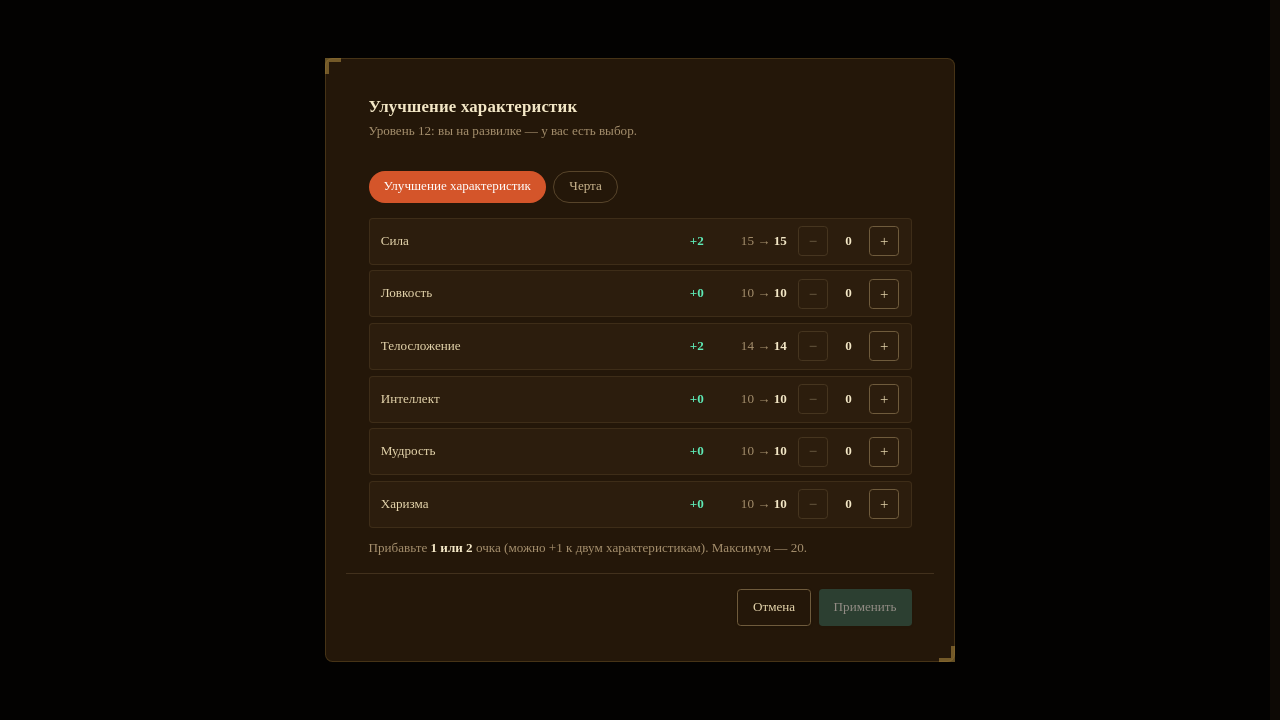
Test case: AsiChoiceModal › feat mode › shows the min level tag even for feats already meeting it
Click the button "Черта".
click(586, 187)  # box left=553, top=171, right=618, bottom=203
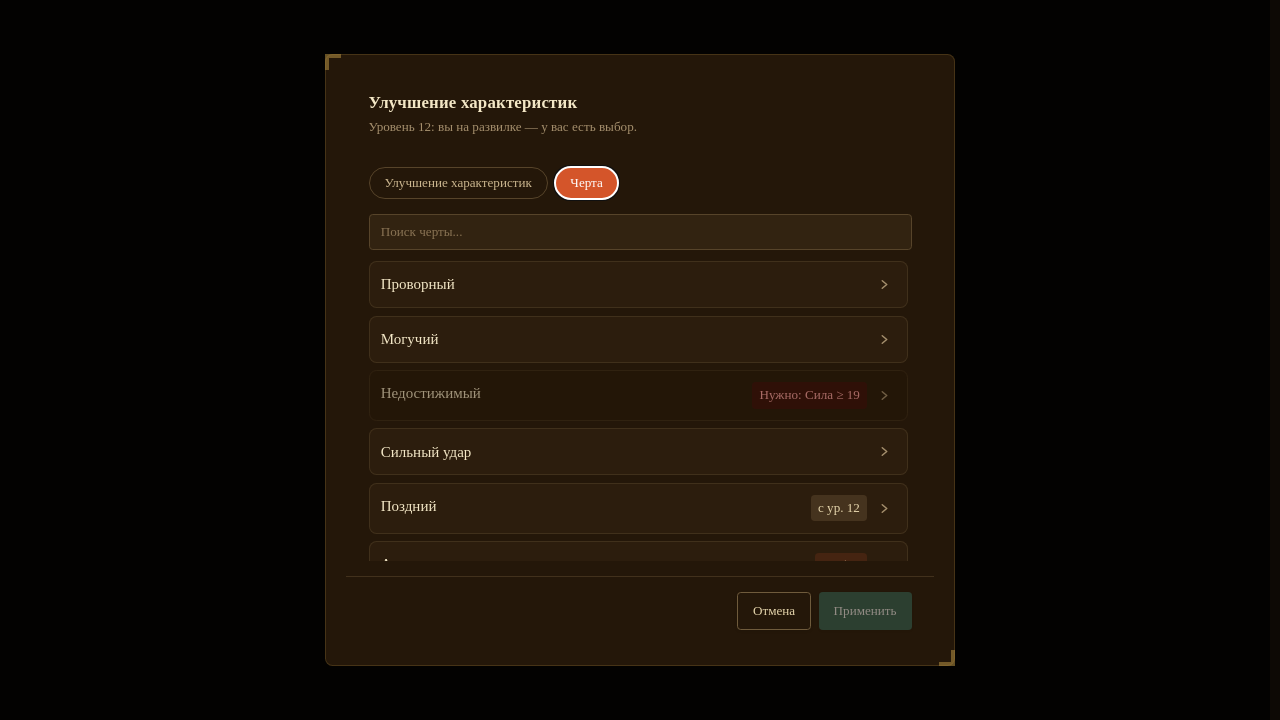
Check: the button "Поздний" is enabled, box left=381, top=495, right=803, bottom=518
Check: the text "с ур. 12" is shown, box left=810, top=495, right=867, bottom=522
